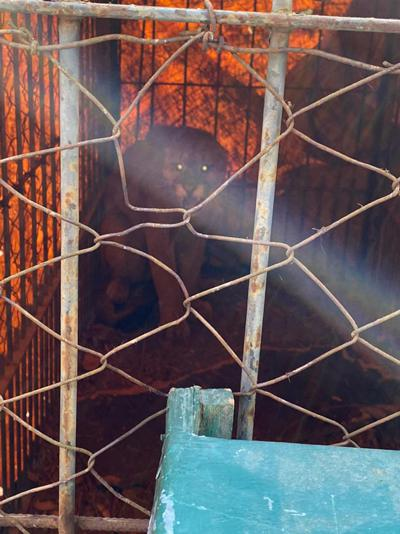OncaParda: (102, 122, 228, 346)
